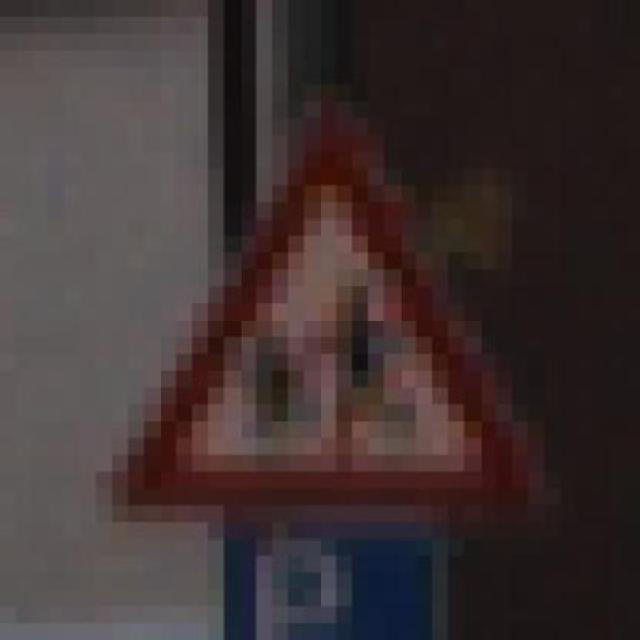Beware of children: (80, 101, 545, 539)
